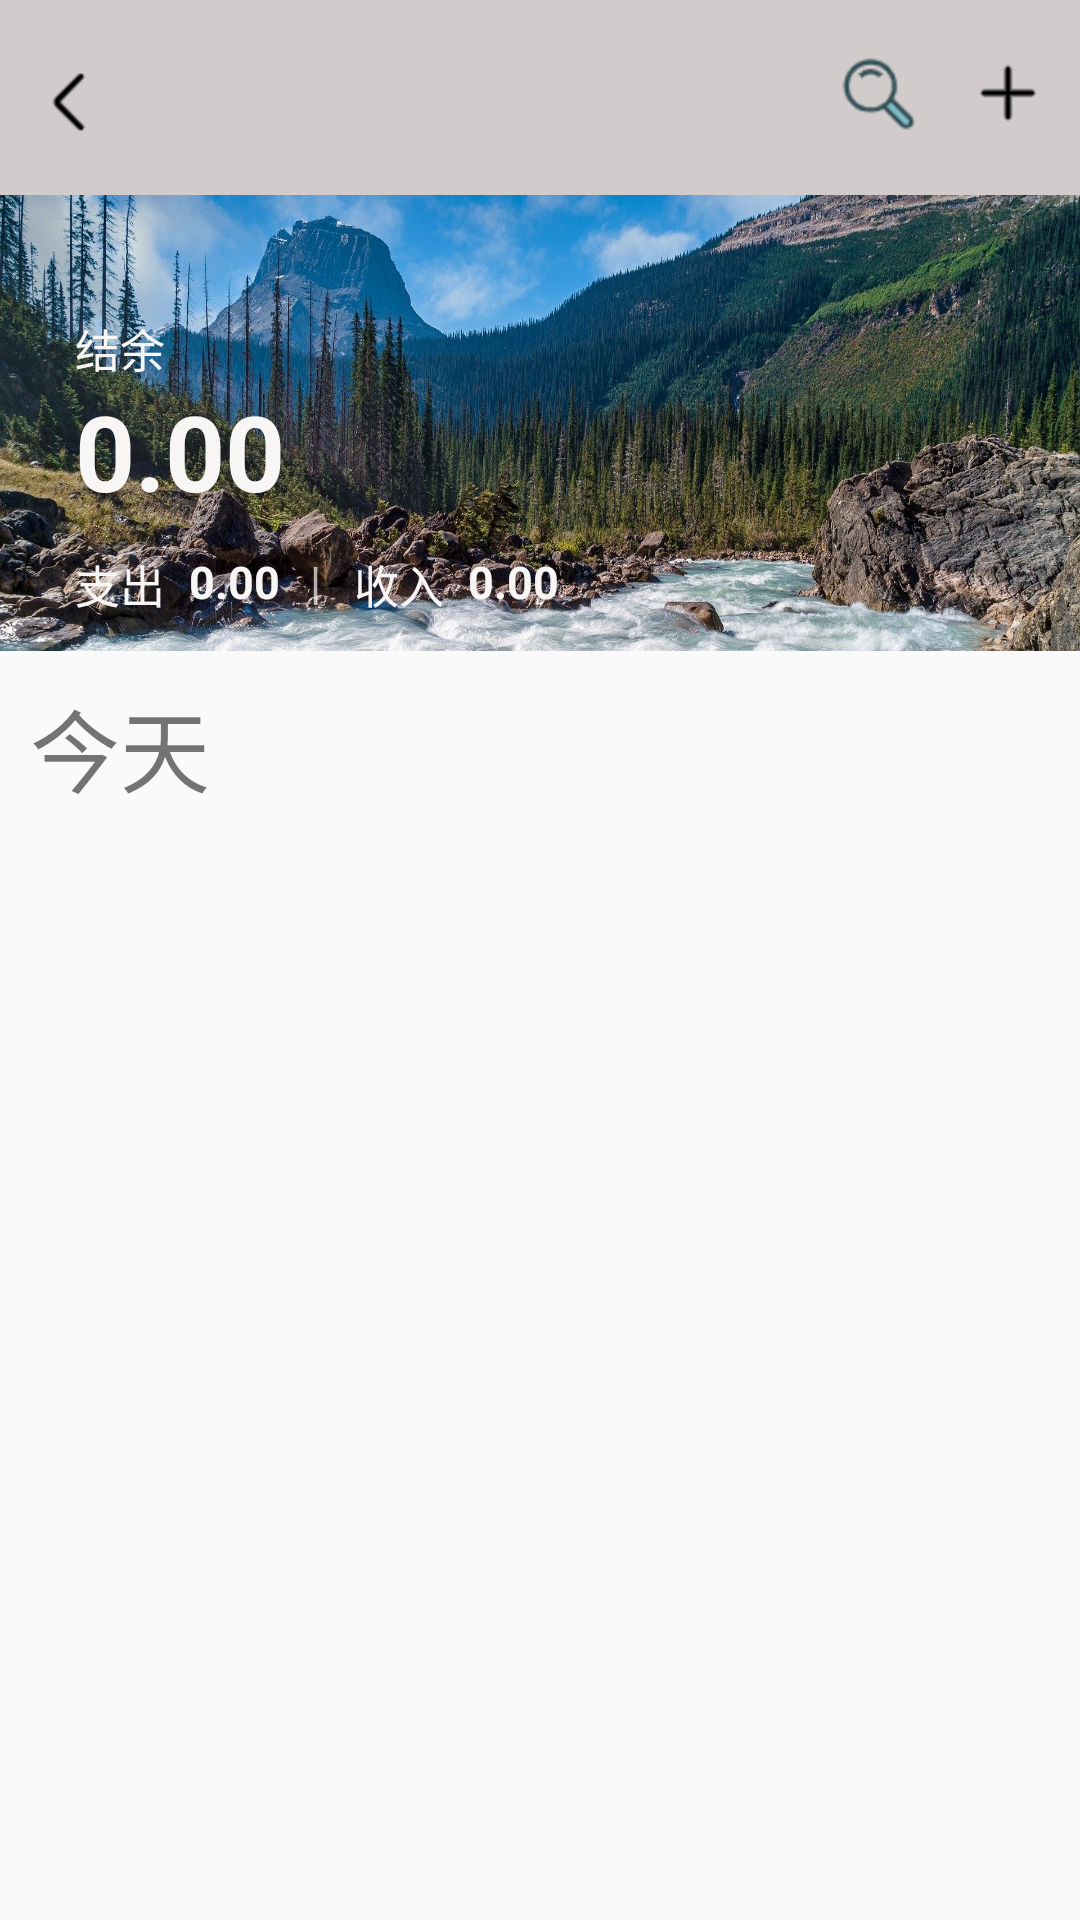

Locate icon controls on the screen. Image size 1080*1920, boxes as (x1, y1, x2, y2).
add: (980, 65, 1036, 121)
arrow left: (53, 73, 85, 131)
search: (843, 58, 914, 130)
